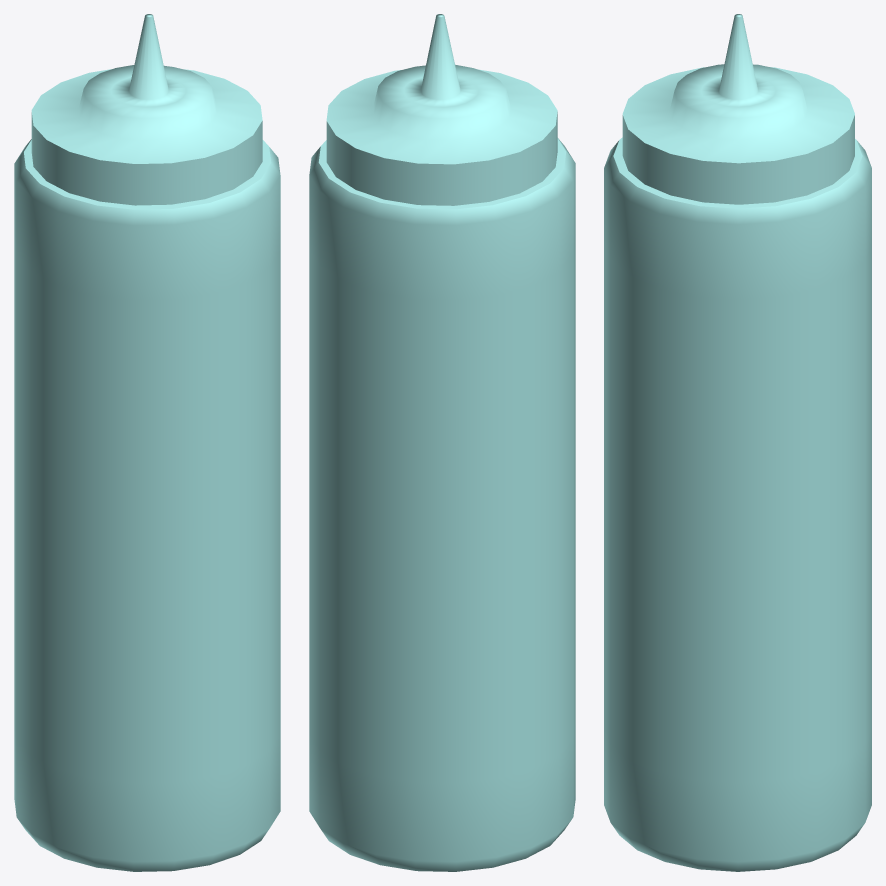
File: Condiment.fbx
The picture shows the model from 3 angles, left to right: view 1: azimuth 30°, elevation 25°; view 2: azimuth 150°, elevation 25°; view 3: azimuth 270°, elevation 25°; orthographic projection.
Visible parts, largest first — view 1: condiment_bottle, condiment_top; view 2: condiment_bottle, condiment_top; view 3: condiment_bottle, condiment_top.
Part boxes in pixels (x1,y1,x2,y2): condiment_bottle: [14, 139, 280, 871]; condiment_top: [31, 14, 262, 205]; condiment_bottle: [309, 138, 575, 871]; condiment_top: [326, 14, 557, 205]; condiment_bottle: [604, 137, 871, 871]; condiment_top: [622, 14, 854, 204].
Bounding box in the file's own units: 9.45 × 31.32 × 9.45.
